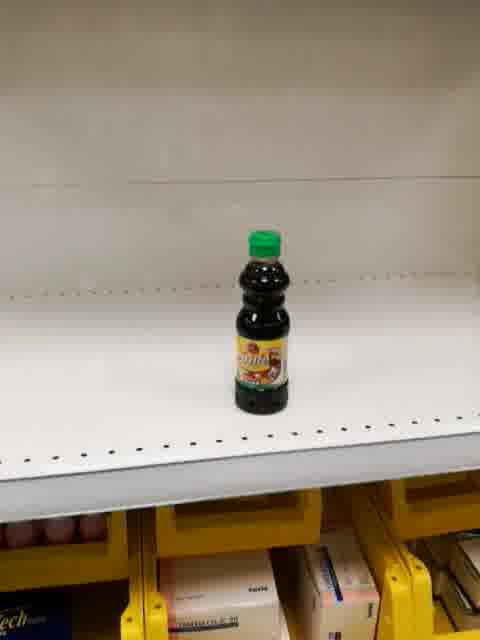cookingoil: (234, 226, 293, 417)
